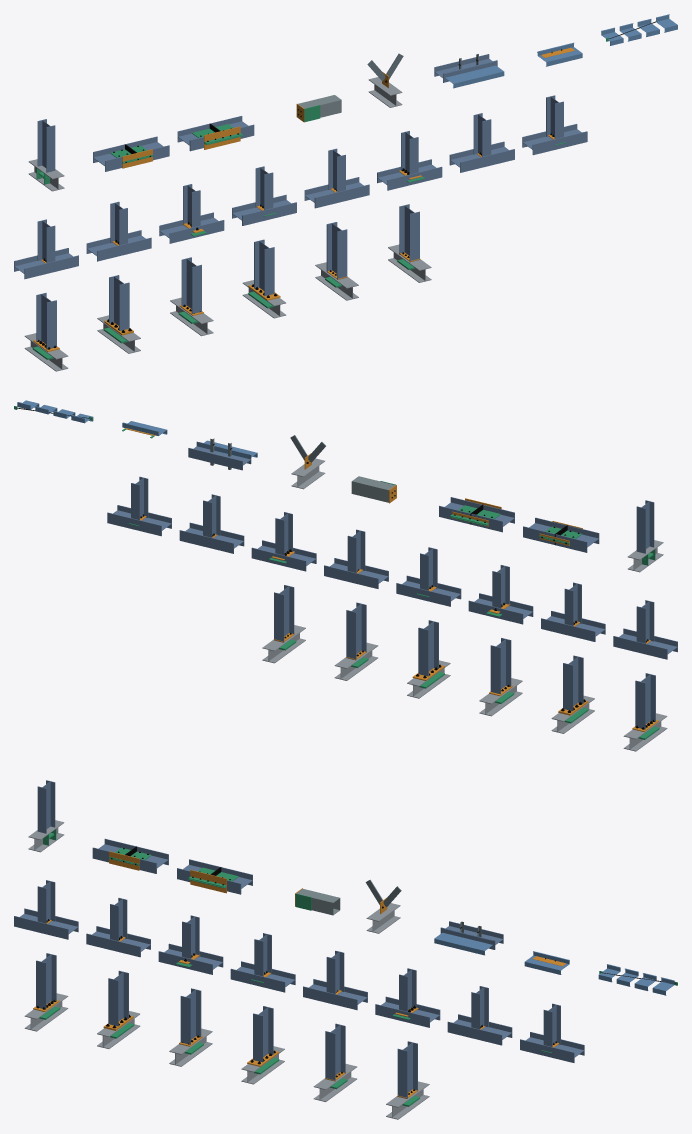
Rendered from SGP26-CSPS-EX-CD-01_sheet_all_details.obj.
3 renders of one model, top to bottom at view 1: azimuth 30°, elevation 25°; view 2: azimuth 150°, elevation 25°; view 3: azimuth 330°, elevation 25°, orthographic.
Visible parts, largest first — view 1: B5_B5_primary_beam_top_flange, B8_B8_primary_beam_top_flange, B1_B1_primary_beam_top_flange, B2_B2_primary_beam_top_flange, B7_B7_primary_beam_top_flange, B4_B4_primary_beam_top_flange, B6_B6_primary_beam_top_flange, B3_B3_primary_beam_top_flange, A5_A5_beam_to_column_flange_top_flange, A6_A6_beam_to_column_flange_top_flange; view 2: B2_B2_primary_beam_bottom_flange, B1_B1_primary_beam_bottom_flange, B5_B5_primary_beam_bottom_flange, B7_B7_primary_beam_bottom_flange, B8_B8_primary_beam_bottom_flange, B4_B4_primary_beam_bottom_flange, B6_B6_primary_beam_bottom_flange, B3_B3_primary_beam_bottom_flange, PURLIN_purlin_connection_rafter_bottom_flange, A6_A6_beam_to_column_flange_bottom_flange, A5_A5_beam_to_column_flange_bottom_flange; view 3: B7_B7_primary_beam_top_flange, B4_B4_primary_beam_top_flange, B2_B2_primary_beam_top_flange, B5_B5_primary_beam_top_flange, B1_B1_primary_beam_top_flange, B8_B8_primary_beam_top_flange, B6_B6_primary_beam_top_flange, B3_B3_primary_beam_top_flange, A5_A5_beam_to_column_flange_top_flange, A6_A6_beam_to_column_flange_top_flange, A3_A3_beam_to_column_flange_top_flange, A4_A4_beam_to_column_flange_top_flange (+2 smaller).
Boxes of the visible parts, box(x1,y1,x2,y2) form: B5_B5_primary_beam_top_flange: box(314, 184, 369, 208); B8_B8_primary_beam_top_flange: box(532, 131, 587, 155); B1_B1_primary_beam_top_flange: box(24, 255, 78, 279); B2_B2_primary_beam_top_flange: box(97, 237, 151, 261); B7_B7_primary_beam_top_flange: box(460, 149, 514, 172); B4_B4_primary_beam_top_flange: box(242, 202, 296, 225); B6_B6_primary_beam_top_flange: box(387, 166, 442, 190); B3_B3_primary_beam_top_flange: box(169, 220, 224, 243); A5_A5_beam_to_column_flange_top_flange: box(337, 229, 347, 279); A6_A6_beam_to_column_flange_top_flange: box(409, 211, 419, 262); B2_B2_primary_beam_bottom_flange: box(541, 618, 595, 641); B1_B1_primary_beam_bottom_flange: box(613, 636, 667, 659); B5_B5_primary_beam_bottom_flange: box(324, 565, 378, 588); B7_B7_primary_beam_bottom_flange: box(179, 530, 233, 553); B8_B8_primary_beam_bottom_flange: box(107, 512, 161, 536); B4_B4_primary_beam_bottom_flange: box(396, 583, 450, 606); B6_B6_primary_beam_bottom_flange: box(251, 547, 306, 571); B3_B3_primary_beam_bottom_flange: box(468, 600, 523, 624); PURLIN_purlin_connection_rafter_bottom_flange: box(188, 448, 242, 470); A6_A6_beam_to_column_flange_bottom_flange: box(274, 592, 284, 642); A5_A5_beam_to_column_flange_bottom_flange: box(346, 610, 356, 660); B7_B7_primary_beam_top_flange: box(447, 1021, 502, 1045); B4_B4_primary_beam_top_flange: box(230, 968, 285, 992); B2_B2_primary_beam_top_flange: box(86, 933, 140, 957); B5_B5_primary_beam_top_flange: box(303, 986, 357, 1010); B1_B1_primary_beam_top_flange: box(14, 916, 68, 939); B8_B8_primary_beam_top_flange: box(520, 1039, 574, 1062); B6_B6_primary_beam_top_flange: box(375, 1004, 429, 1027); B3_B3_primary_beam_top_flange: box(158, 951, 212, 974); A5_A5_beam_to_column_flange_top_flange: box(325, 1031, 335, 1081); A6_A6_beam_to_column_flange_top_flange: box(397, 1048, 407, 1098); A3_A3_beam_to_column_flange_top_flange: box(180, 996, 190, 1044); A4_A4_beam_to_column_flange_top_flange: box(253, 1013, 263, 1062).
Size of the model in its own units: 10835 by 3716 by 900.
